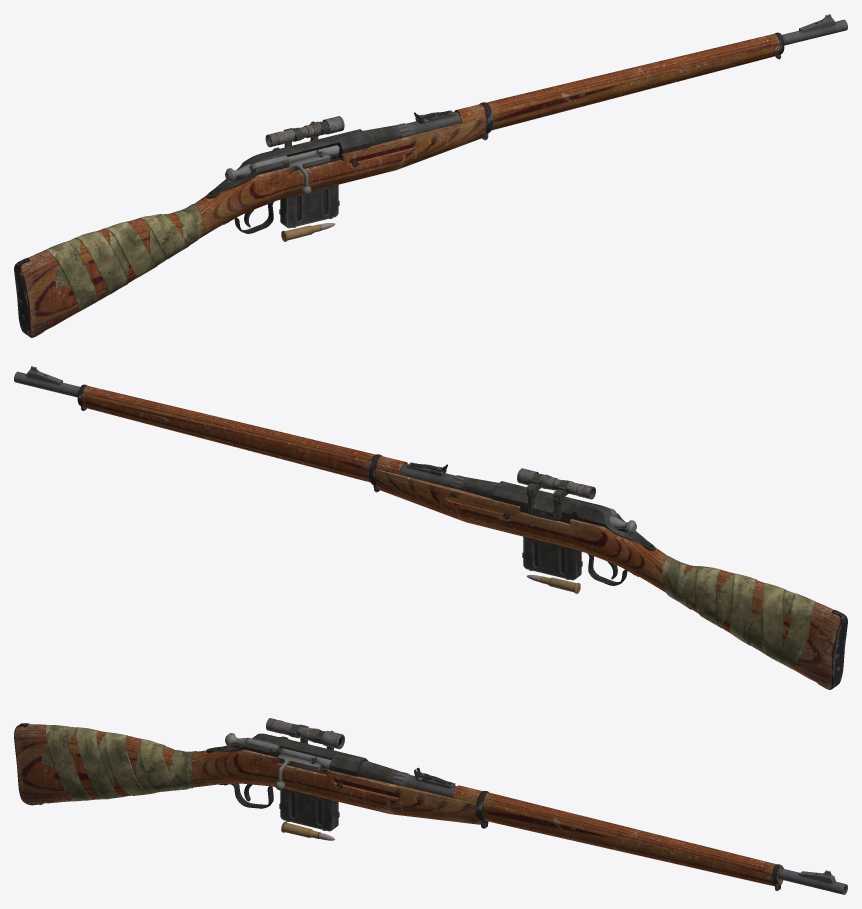
Rendered from bolt_action_rifle_7_62.glb.
3 renders of one model, top to bottom at view 1: azimuth 30°, elevation 25°; view 2: azimuth 150°, elevation 25°; view 3: azimuth 330°, elevation 25°, orthographic.
Visible parts, largest first — view 1: bolt_action_rifle_7_62, bolt_action_rifle_7_62_wrap, bolt_action_rifle_7_62_scope, bolt_action_rifle_7_62_bolt_a; view 2: bolt_action_rifle_7_62, bolt_action_rifle_7_62_wrap, bolt_action_rifle_7_62_scope; view 3: bolt_action_rifle_7_62, bolt_action_rifle_7_62_wrap, bolt_action_rifle_7_62_scope, bolt_action_rifle_7_62_bolt_a, bolt_action_rifle_7_62_bullet_54mm, bolt_action_rifle_7_62_bolt_b.
Part boxes in pixels (bbox=[...]): bolt_action_rifle_7_62: bbox=[14, 14, 847, 337]; bolt_action_rifle_7_62_wrap: bbox=[44, 203, 202, 311]; bolt_action_rifle_7_62_scope: bbox=[265, 116, 344, 147]; bolt_action_rifle_7_62_bolt_a: bbox=[287, 145, 339, 194]; bolt_action_rifle_7_62: bbox=[14, 366, 847, 689]; bolt_action_rifle_7_62_wrap: bbox=[662, 556, 815, 668]; bolt_action_rifle_7_62_scope: bbox=[517, 468, 595, 520]; bolt_action_rifle_7_62: bbox=[14, 723, 847, 894]; bolt_action_rifle_7_62_wrap: bbox=[42, 725, 197, 801]; bolt_action_rifle_7_62_scope: bbox=[266, 718, 344, 750]; bolt_action_rifle_7_62_bolt_a: bbox=[275, 748, 331, 790]; bolt_action_rifle_7_62_bullet_54mm: bbox=[281, 821, 334, 840]; bolt_action_rifle_7_62_bolt_b: bbox=[225, 733, 324, 770].
Bounding box in the file's own units: 1.23 × 0.2045 × 0.0666.
Materials: 3 (3 with a texture image).
